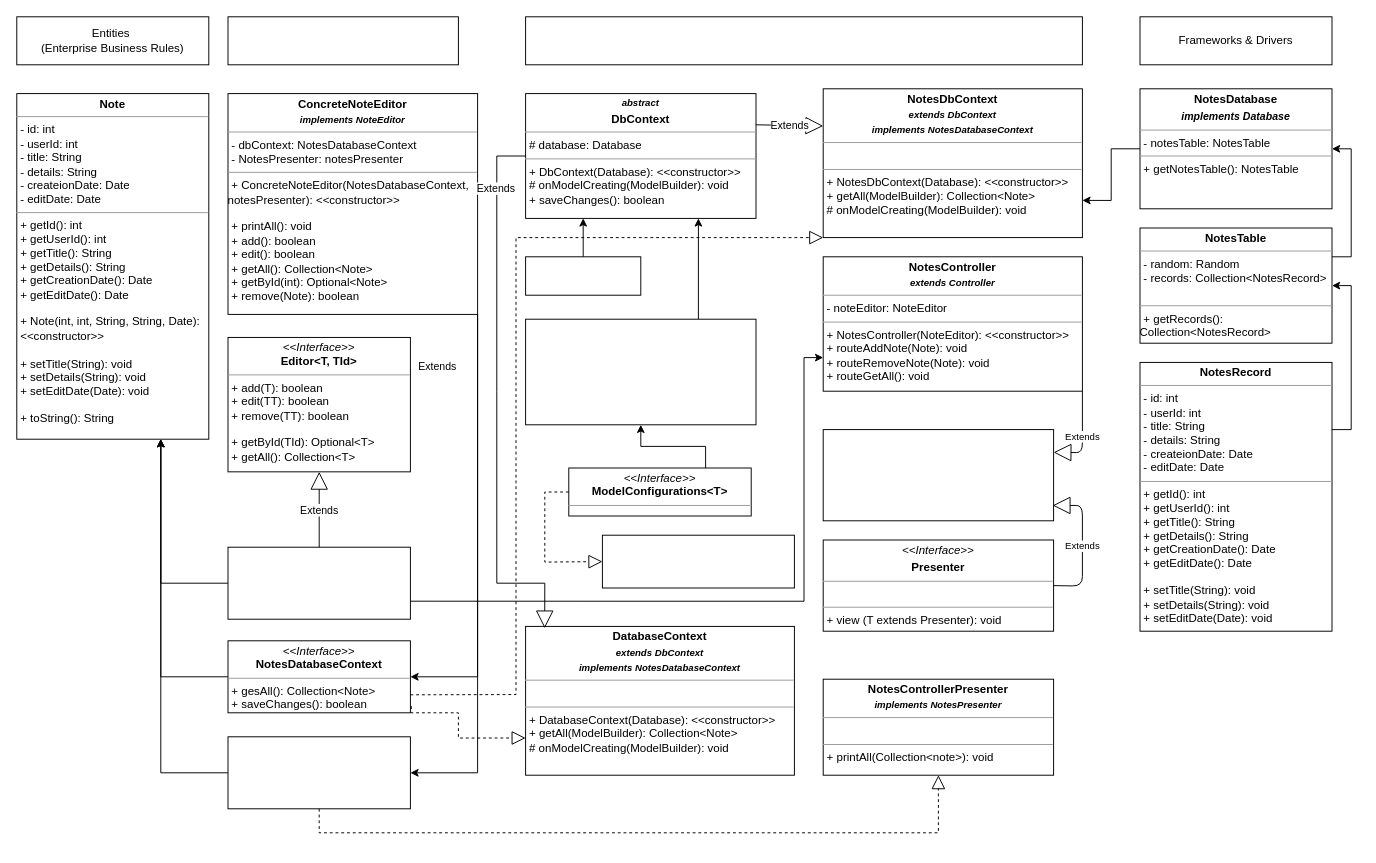
This 1376x863 diagram has some shape labels left out. The centre of each missing label's shape, as x and y in pixels:
<<Interface>> Database: the point at 583,275
<<Interface>> NoteEditor<Note, Integer> + printAll(): void: the point at 318,582
<<Interface>> NotesPresenter + printAll(): Collection<Note>: the point at 318,772
abstract Controller + view (T extends Presenter): void: the point at 938,475
Interface Adapters: the point at 803,40
ModelBuilder + applyConfiguration (ModelConfiguration): ModelBuilder: the point at 640,371
NoteConfiguration implements ModelConfiguration<Note>: the point at 697,561
Use Cases (Application Business Rules): the point at 342,40
